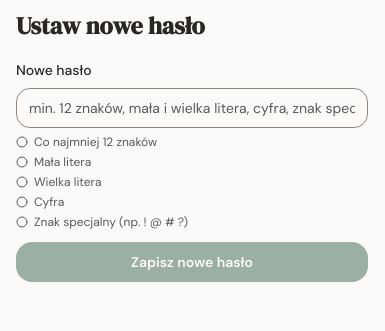
Scenario: AN-5-135: ResetPassword › nowe hasło 11 znaków: przycisk nieaktywny, wymuszona wysyłka nie woła updateUser
The image size is (385, 331).
Type "Rodzina26!x" into the password field labelled "Nowe hasło" at coordinates (192, 108), box [16, 88, 368, 128]
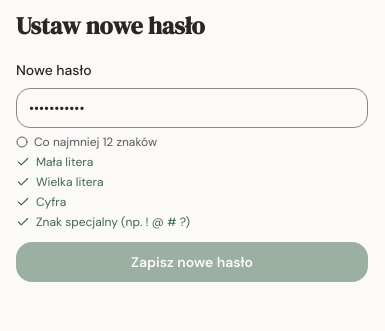
Expected: the button "Zapisz nowe hasło" is disabled, [16, 242, 368, 282]
Submit the form named "Zapisz nowe hasło"
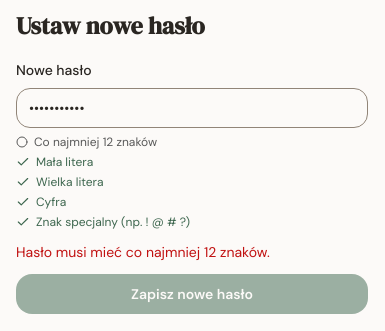
Expected: the message reads "Hasło musi mieć co najmniej 12 znaków.", [16, 243, 270, 261]
